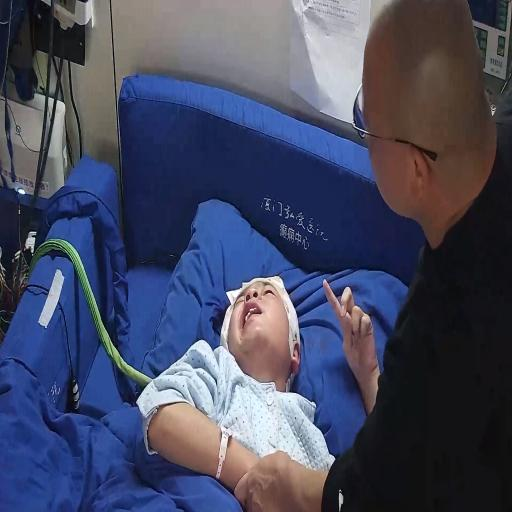Seizure: (228, 267, 305, 383)
